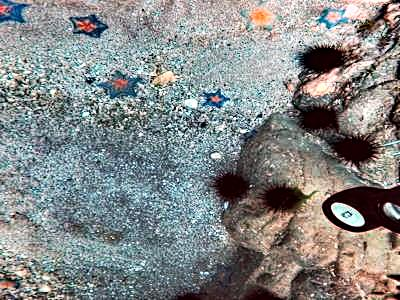urchin: (257, 181, 312, 217), (324, 133, 385, 165), (295, 43, 354, 74), (296, 102, 343, 136), (210, 170, 252, 205)
